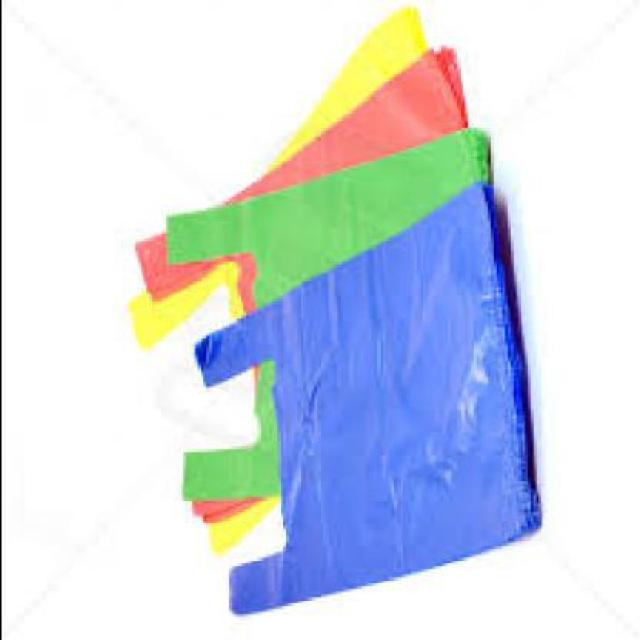PLASTIC: (128, 3, 424, 557), (131, 45, 463, 521), (190, 179, 535, 615), (162, 128, 487, 498)
